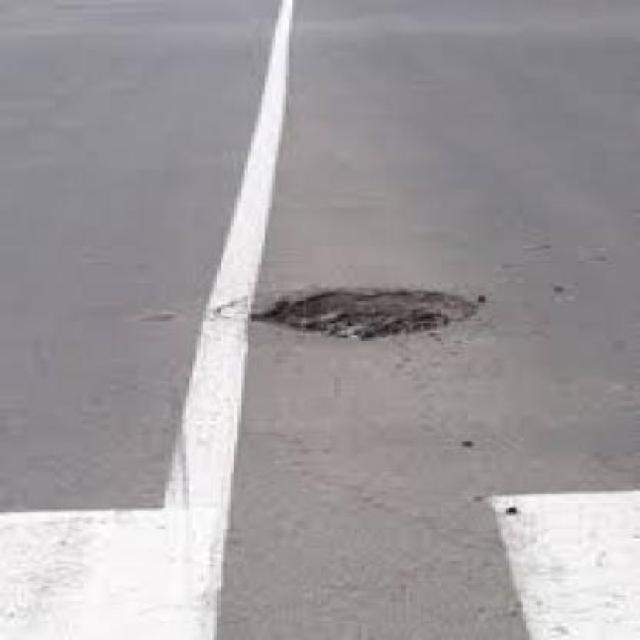pothole: (237, 283, 478, 339)
